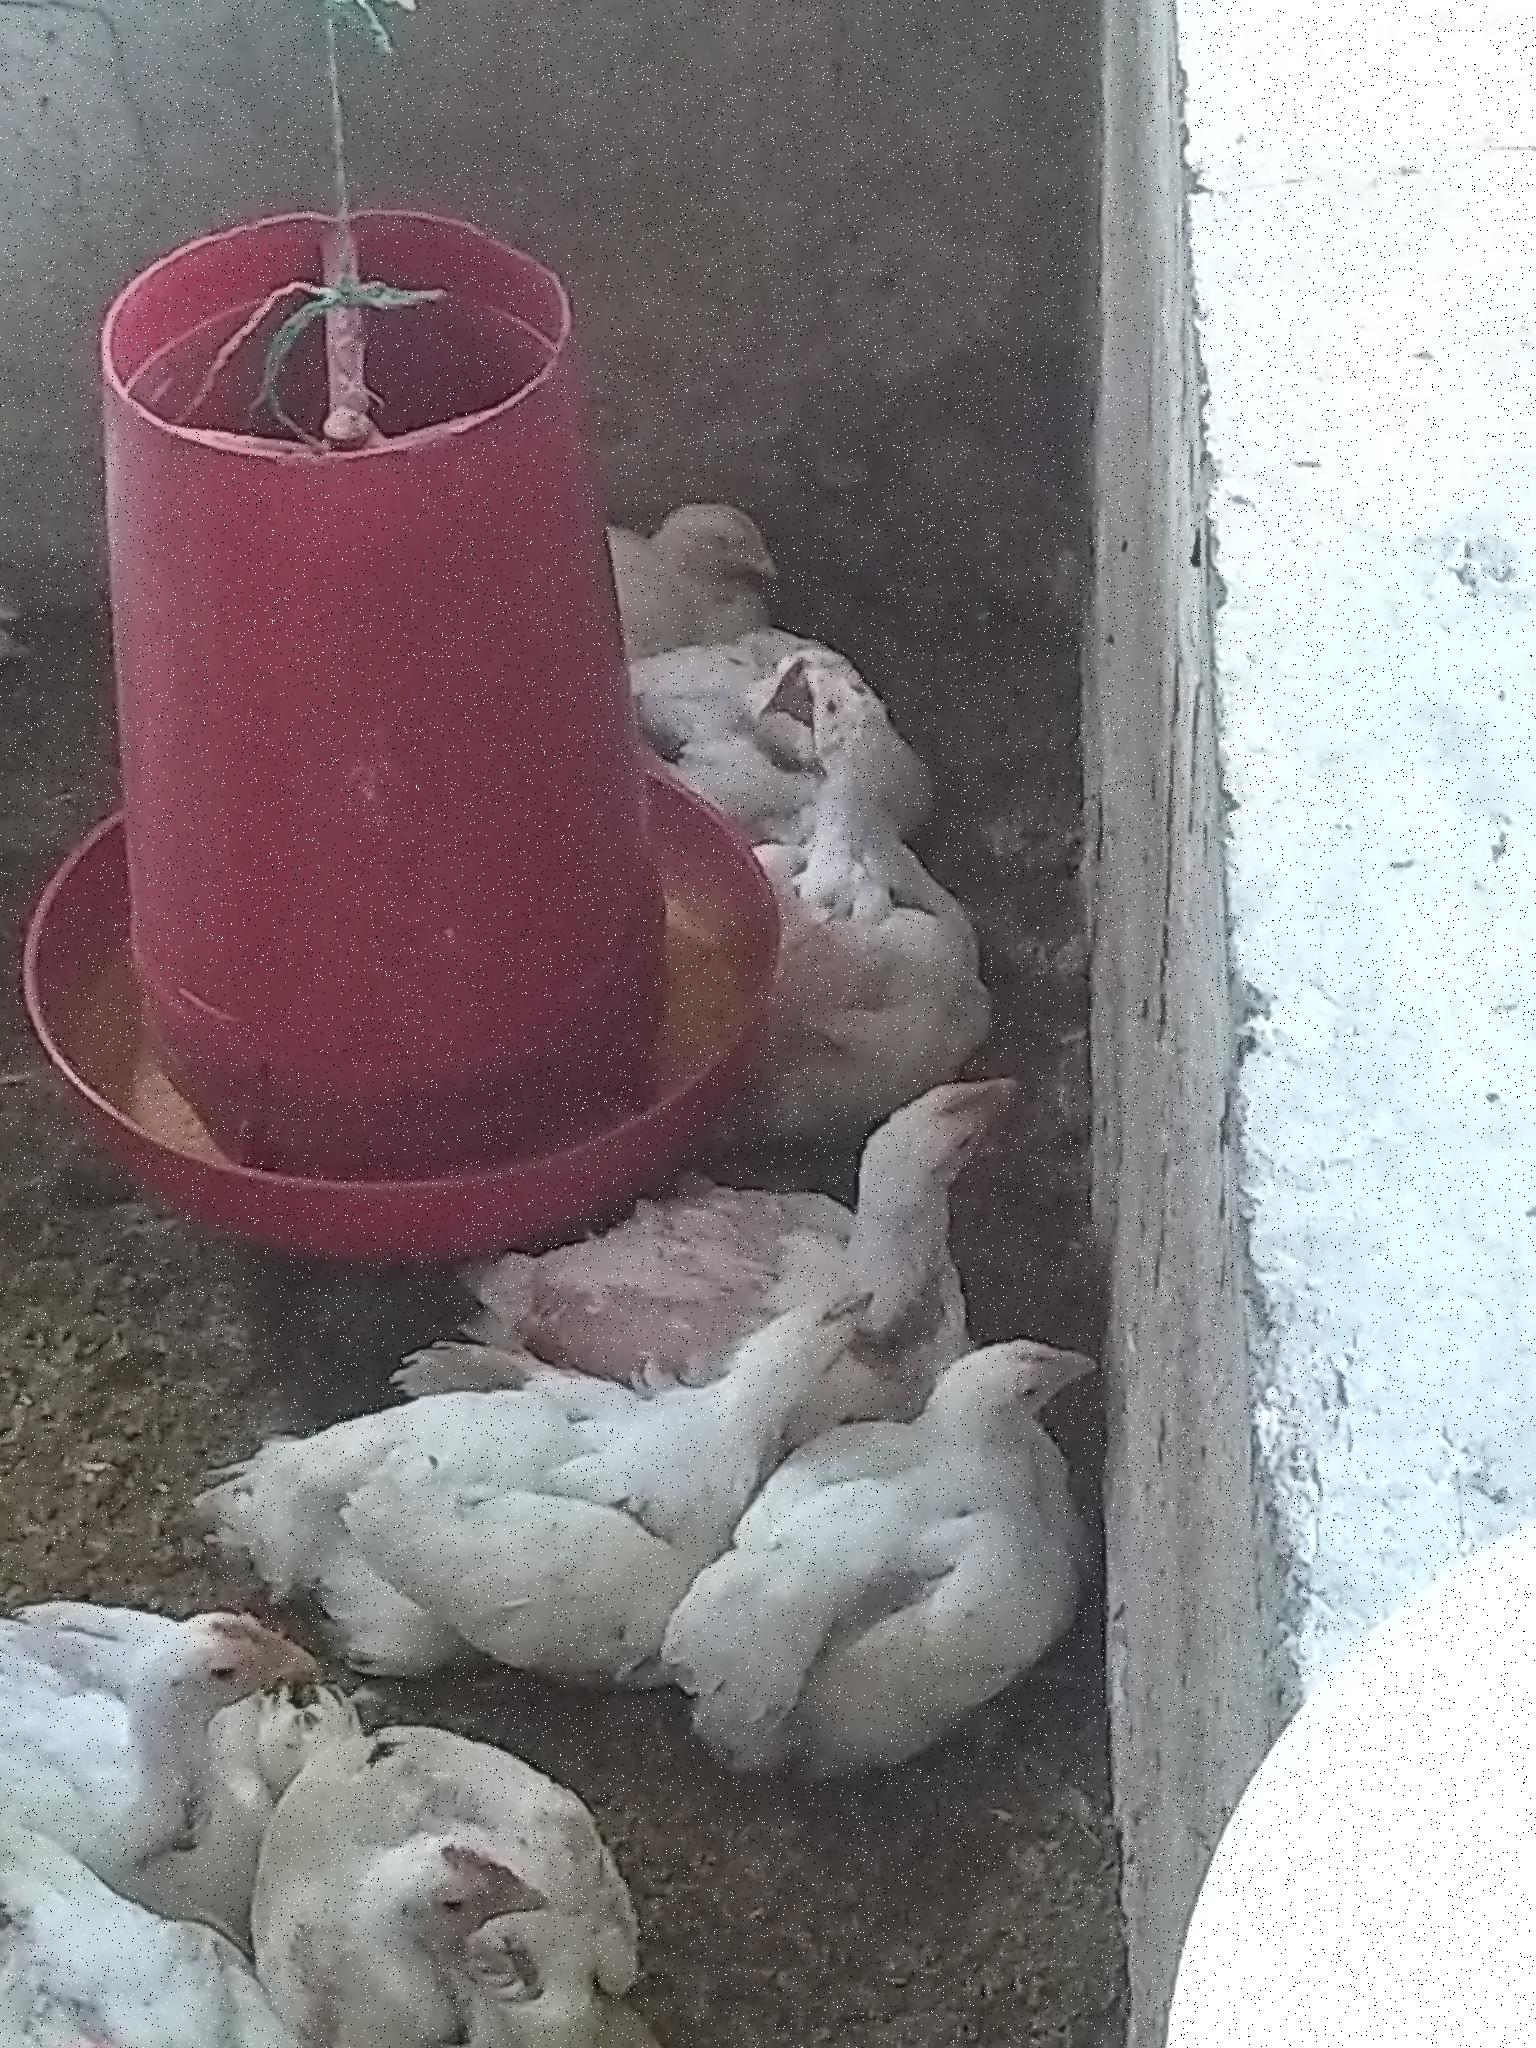Pollos: (211, 1268, 886, 1621), (466, 1047, 1070, 1329), (854, 1321, 1133, 1766), (2, 1572, 337, 1846), (231, 1842, 536, 2048), (600, 484, 786, 640), (753, 660, 904, 769)
